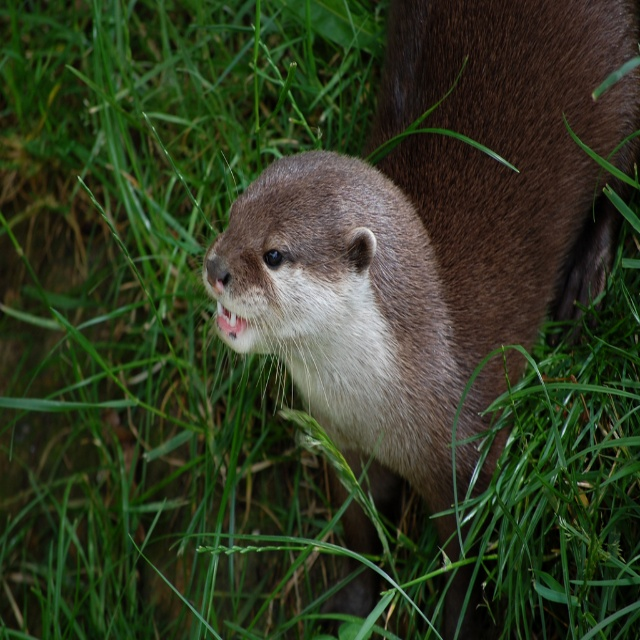Otter: (180, 1, 640, 640)
